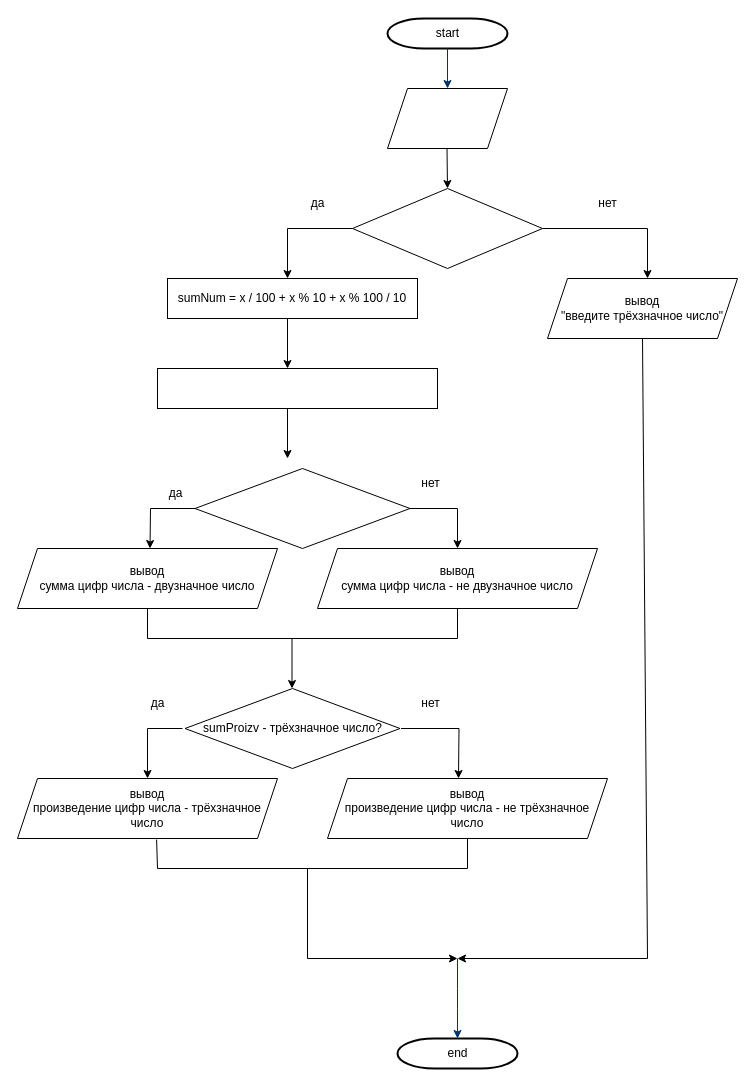
The diagram is 755 pixels wide and 1086 high, and some of its shapes have lost their labels. The shapes that lost their labels are listed below. From the top down, each one's centre as x and y in pixels, then its label:
At [447,118]: "ввод х".
At [447,228]: "x - трёхзначное число?".
At [297,388]: "sumProizv = (x / 100) * (x % 10) * (x % 100 / 10)".
At [302,508]: "sumNum - двузначное число?".
